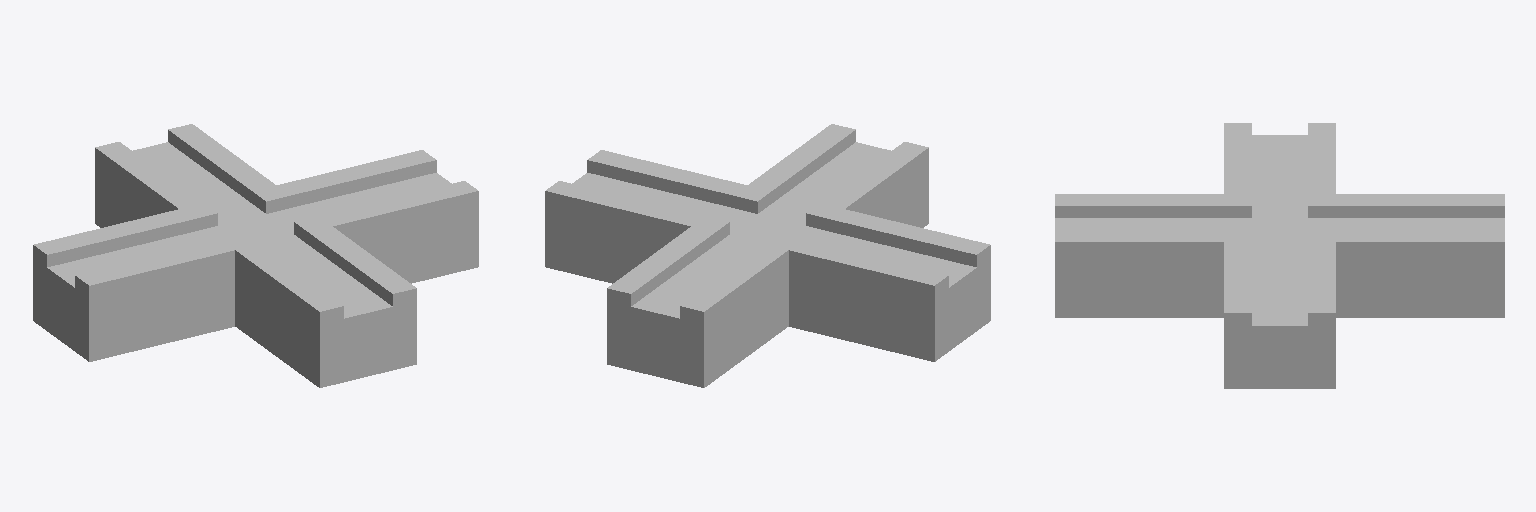
Rendered from modelPlateCodePath.obj.
3 views of the same model, side by side, from view 1: azimuth 30°, elevation 25°; view 2: azimuth 150°, elevation 25°; view 3: azimuth 270°, elevation 25° (orthographic).
Visible parts, largest first — view 1: plate, Active_South, Active_North, Active_West, Active_East, Active_Centre; view 2: plate, Active_North, Active_South, Active_West, Active_East, Active_Centre; view 3: plate, Active_East, Active_West, Active_South, Active_North, Active_Centre.
Part boxes in pixels (x1,y1,x2,y2): plate: (33,124,478,387); Active_South: (259,235,392,317); Active_North: (133,142,265,225); Active_West: (47,226,231,286); Active_East: (267,173,451,233); Active_Centre: (218,214,293,242); plate: (545,124,990,387); Active_North: (631,235,764,317); Active_South: (758,142,890,225); Active_West: (792,226,976,286); Active_East: (572,173,756,233); Active_Centre: (730,214,805,242); plate: (1055,123,1504,388); Active_East: (1252,242,1307,324); Active_West: (1252,135,1307,217); Active_South: (1055,218,1251,229); Active_North: (1308,218,1504,229); Active_Centre: (1252,218,1307,241).
Size of the model in its own units: 16 by 3 by 16.